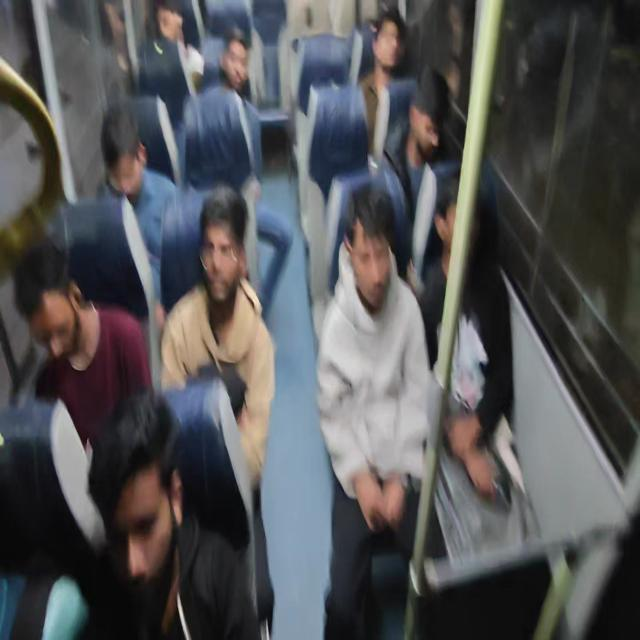person: (11, 1, 517, 638), (41, 386, 262, 638), (315, 181, 433, 638), (159, 184, 276, 635), (420, 176, 514, 503), (13, 237, 154, 452), (96, 101, 205, 317), (47, 194, 163, 390), (182, 25, 264, 292), (376, 65, 451, 283), (136, 0, 204, 131), (357, 5, 408, 170)
